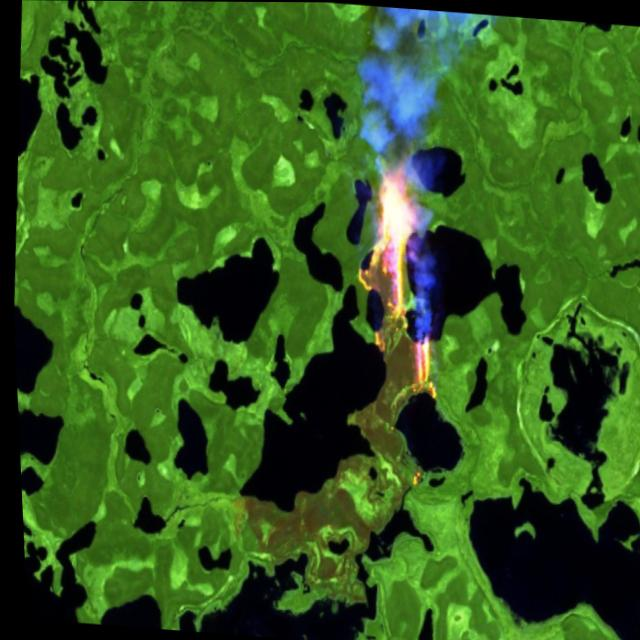fire: (337, 150, 451, 406)
